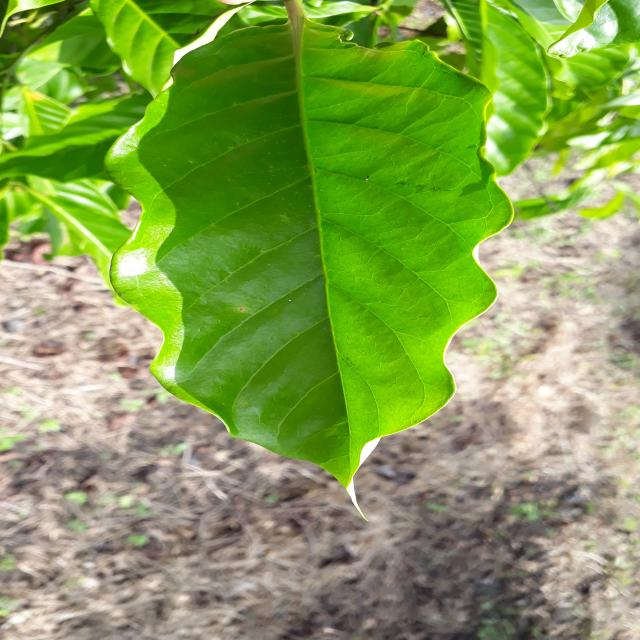Sanas: (96, 0, 513, 492)
